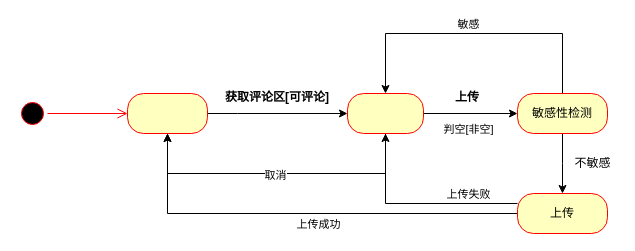
Image size: 635x251. Some labels were removed from this diagram. Here are the shapes that lost their labels. From the top down, the centre of each, then its label:
the point at 167,113: 空闲
the point at 385,113: 评论编辑
